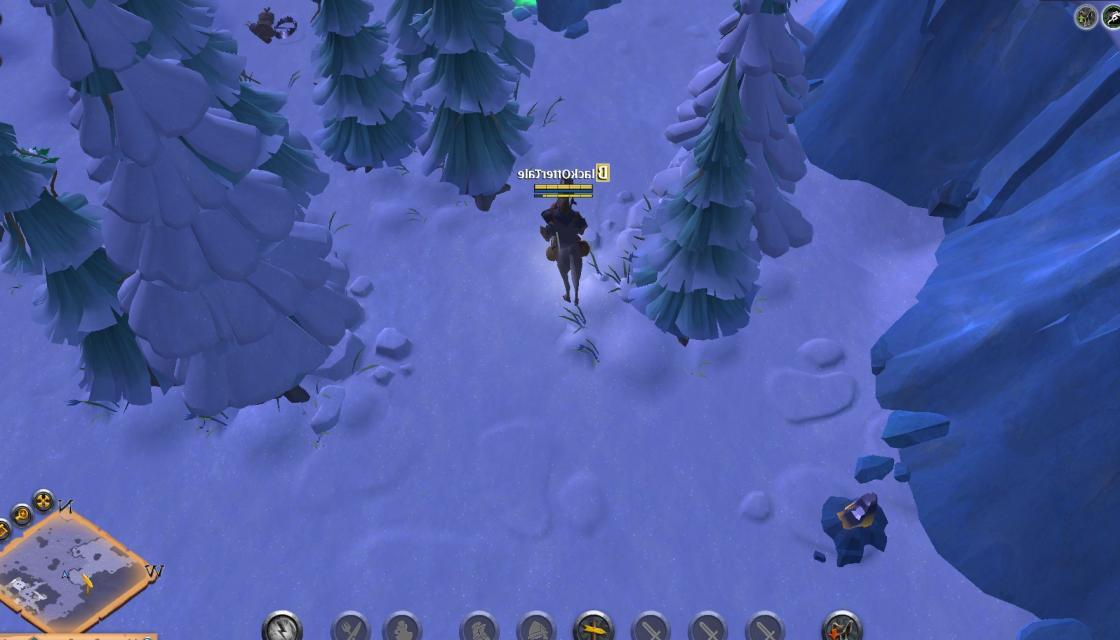copperore: (822, 484, 890, 564)
